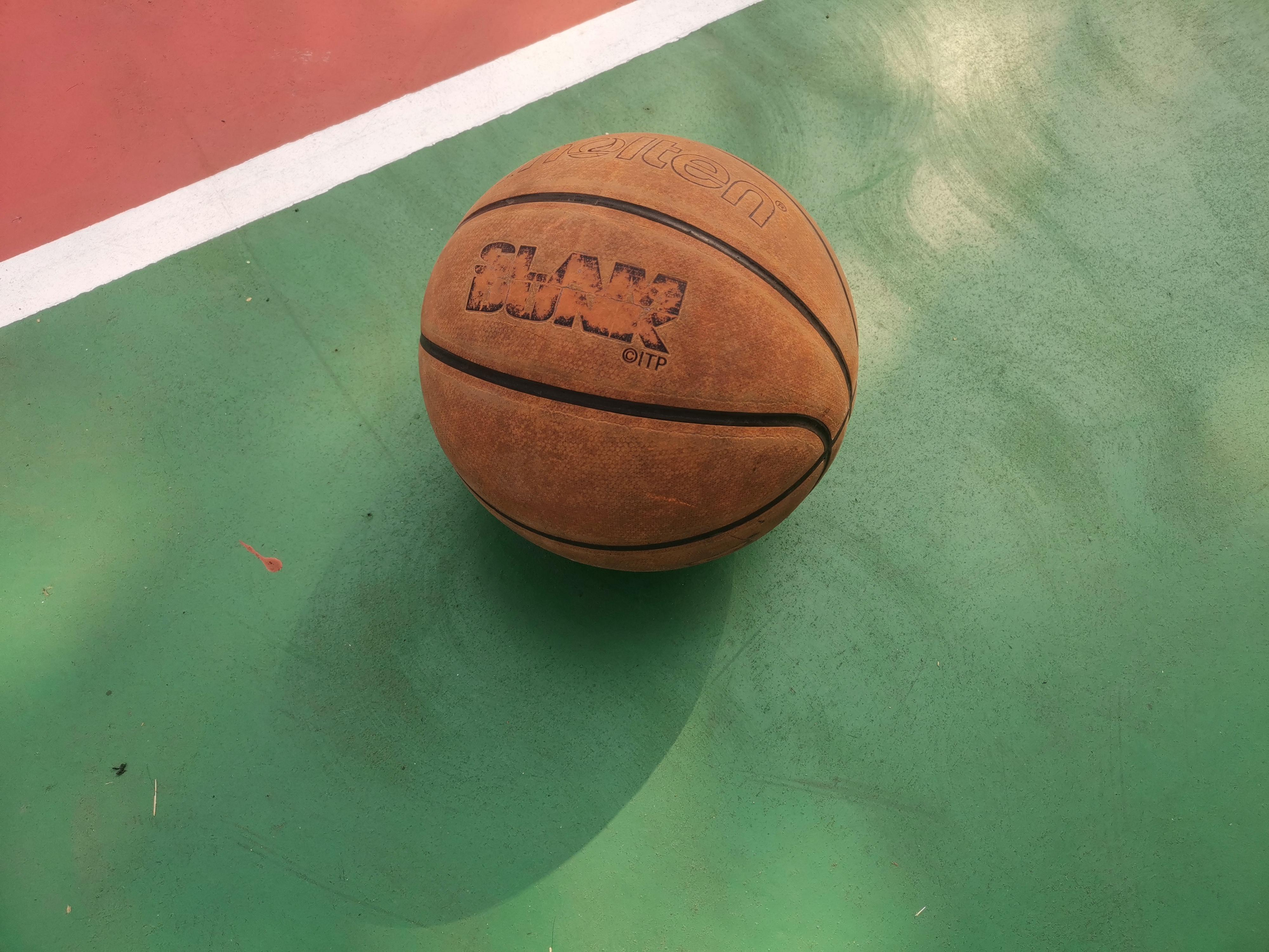ball: (419, 135, 858, 570)
